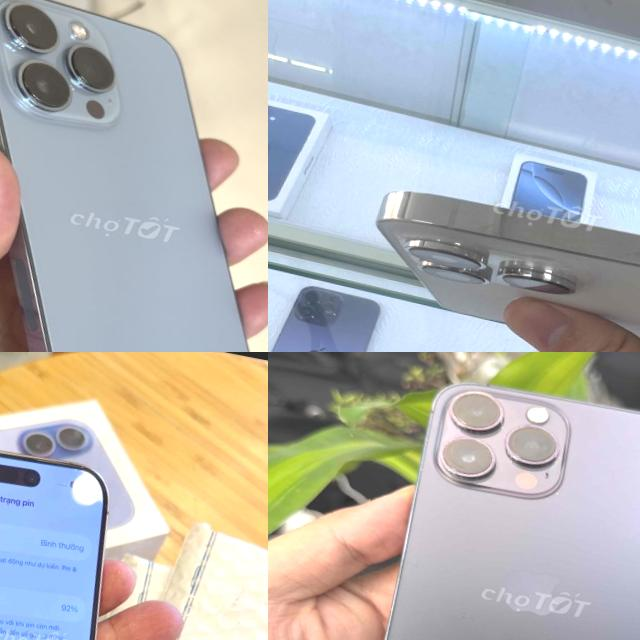gen_12_13: (0, 0, 268, 352)
gen_14: (351, 369, 640, 640), (345, 165, 640, 352)
gen_16: (0, 413, 165, 640)
